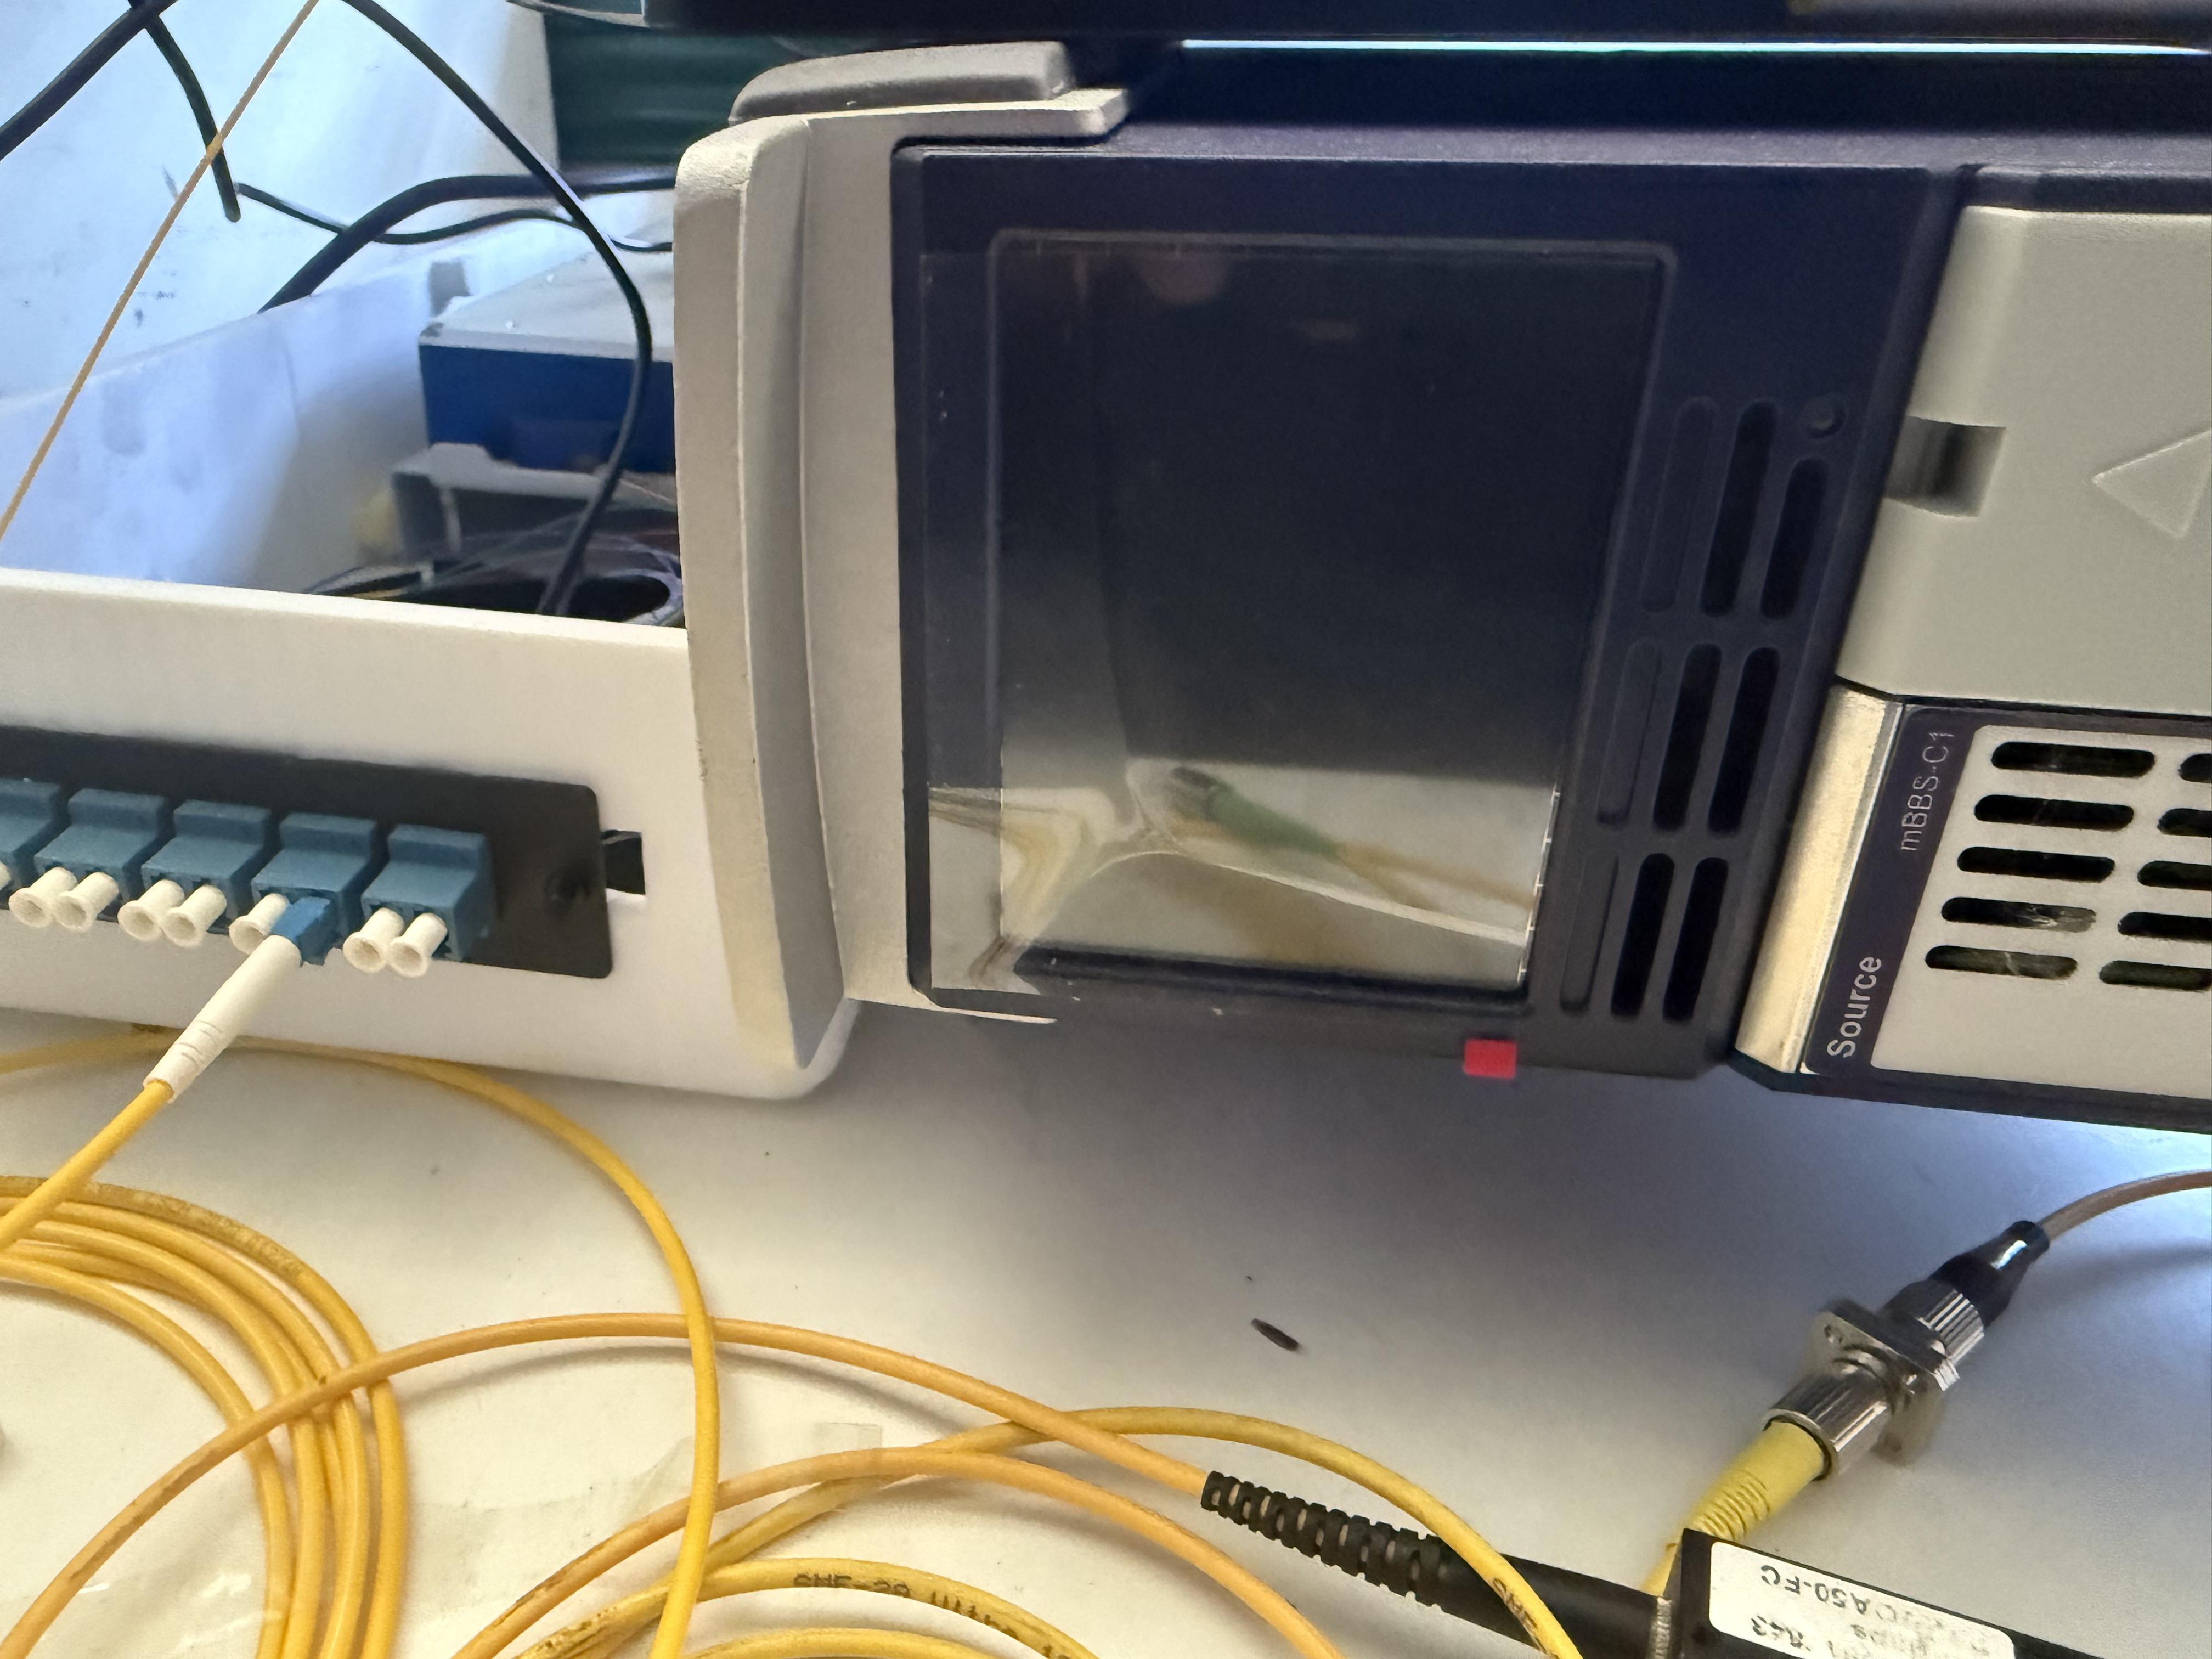laser: (715, 50, 2212, 1147)
